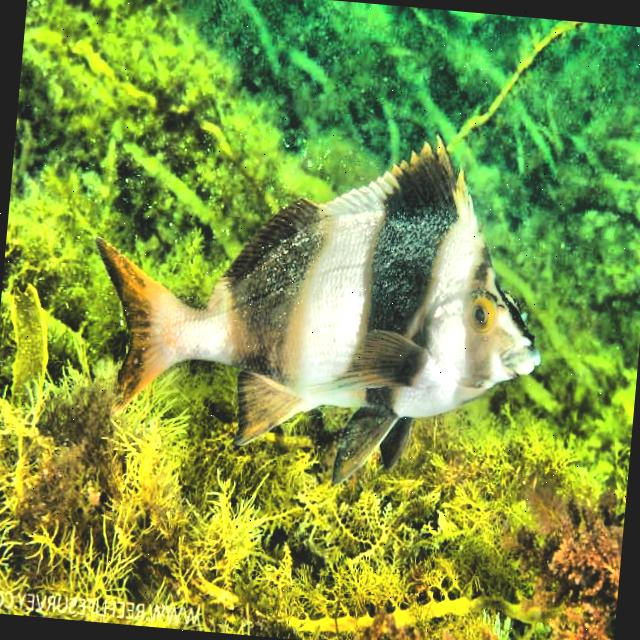fish: (73, 102, 559, 506)
